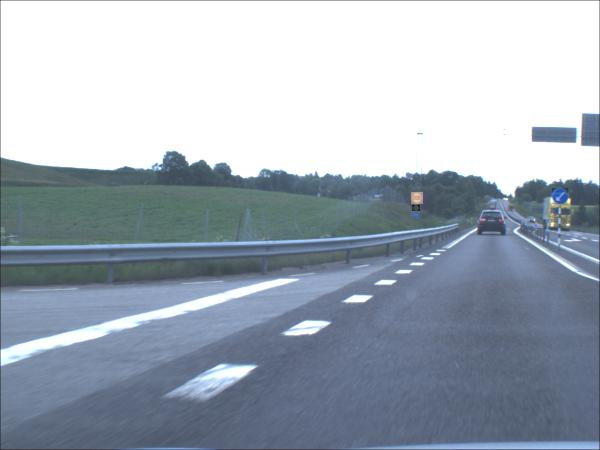100_SIGN: (411, 193, 424, 206)
PASS_RIGHT_SIDE: (552, 189, 569, 206)
PRIORITY_ROAD: (412, 206, 421, 213)
